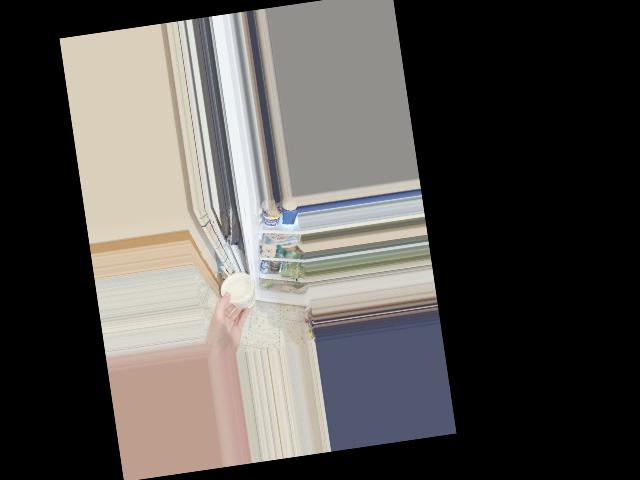cotage: (220, 267, 255, 311)
